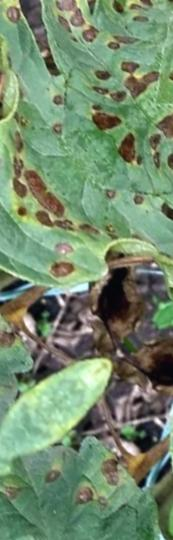Tomato Early blight leaf: (0, 33, 173, 381), (0, 256, 76, 507)
